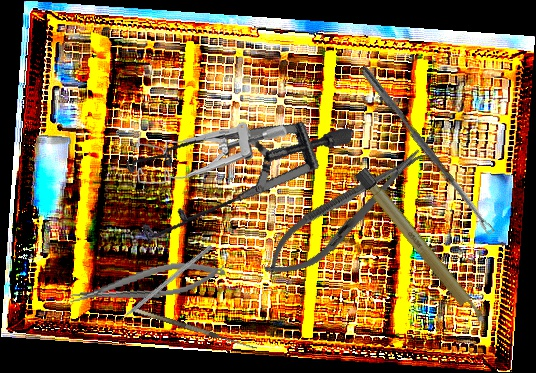Chopper: (107, 239, 214, 328)
Hook Surgical: (132, 300, 260, 352)
Needle Holder: (253, 134, 436, 293), (66, 256, 229, 310)
Scalpel Handle: (354, 167, 489, 328)
Speculum: (107, 72, 354, 289), (133, 118, 288, 189)
Surgical Spoon: (358, 64, 495, 237)
